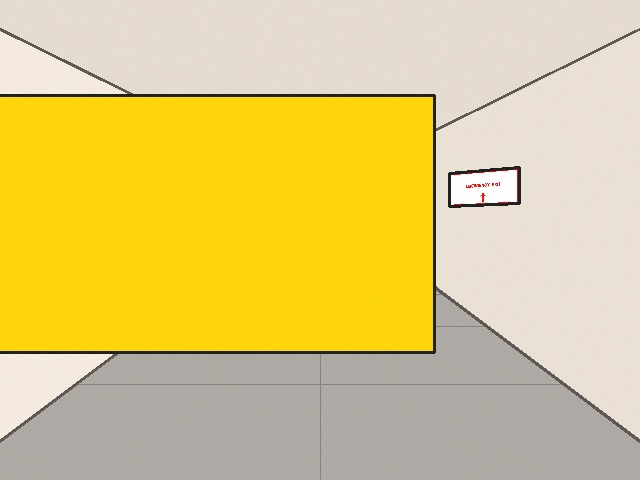charging_station: (82, 111, 201, 309)
directional_sign: (449, 167, 519, 206)
forklift: (0, 95, 434, 352)
hospital_bed: (322, 201, 434, 278)
